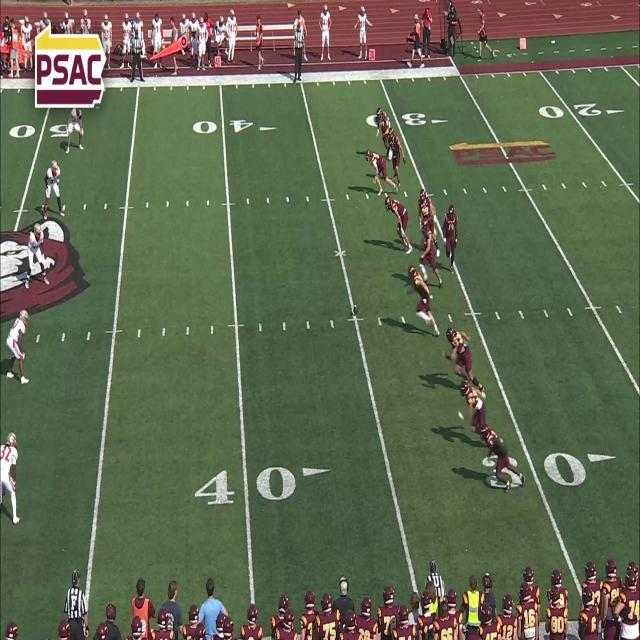football: (353, 302, 358, 316)
